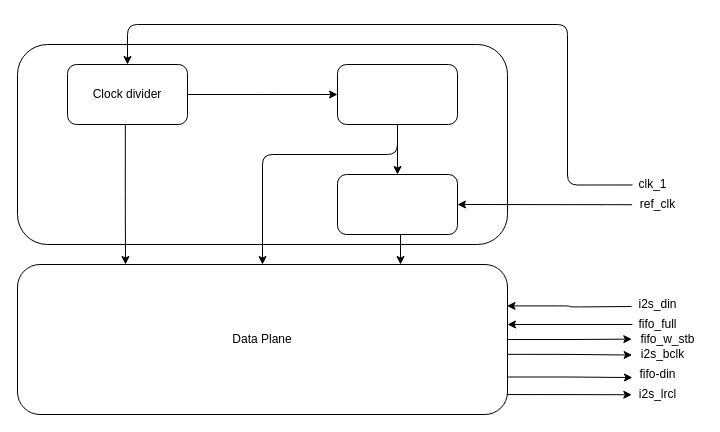
This 720x432 diagram has some shape labels left out. The shapes that lost their labels are listed below. From the top down, each one's box as (x1, y1, x2, y2) in pixels, then its label:
(336, 64, 458, 124): Bit counter
(336, 174, 458, 234): FSM
